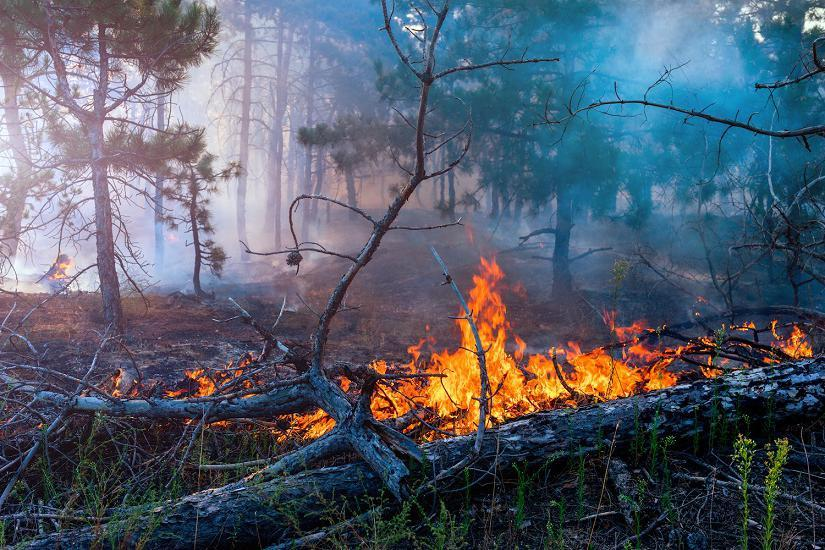Fire: (66, 242, 817, 480)
